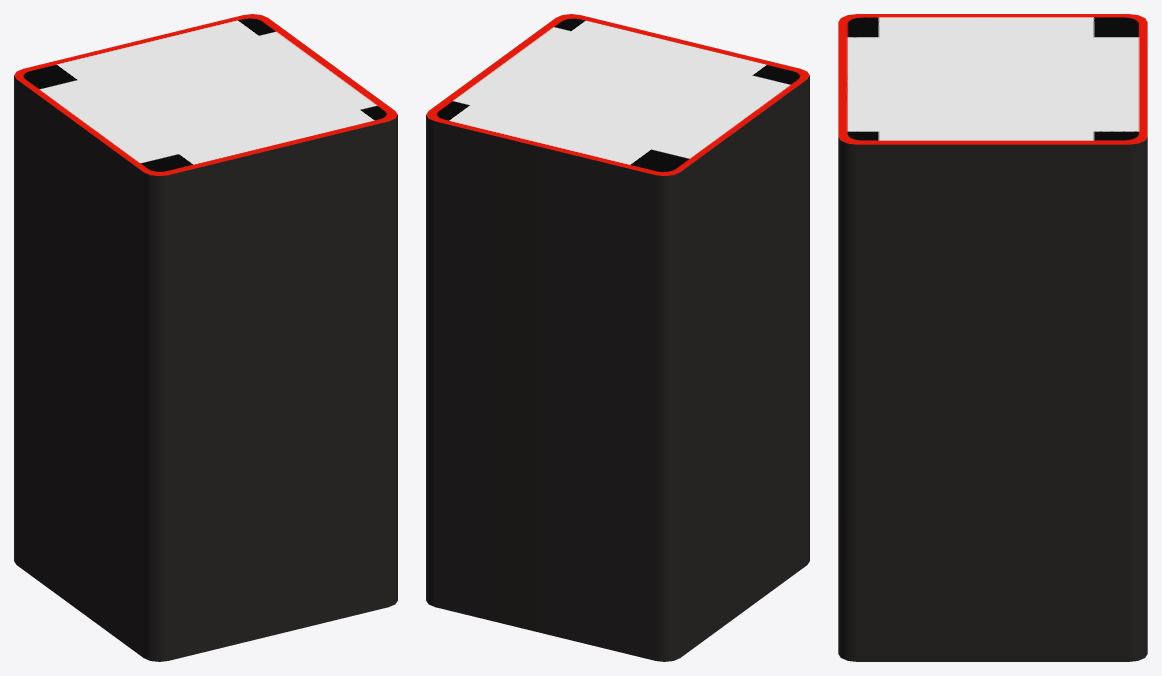
Rendered from rounded_box.fbx.
3 renders of one model, left to right at view 1: azimuth 30°, elevation 25°; view 2: azimuth 150°, elevation 25°; view 3: azimuth 270°, elevation 25°, orthographic. The views are drawn at different scales.
Parts seen in each view (by area): view 1: pasted__pCube1; view 2: pasted__pCube1; view 3: pasted__pCube1.
Boxes of the visible parts, x1=… form: pasted__pCube1: x1=14, y1=14, x2=397, y2=661; pasted__pCube1: x1=426, y1=14, x2=809, y2=661; pasted__pCube1: x1=838, y1=14, x2=1147, y2=661.
Size of the model in its own units: 52.07 by 96.07 by 52.07.
Materials: 2 (1 with a texture image).
